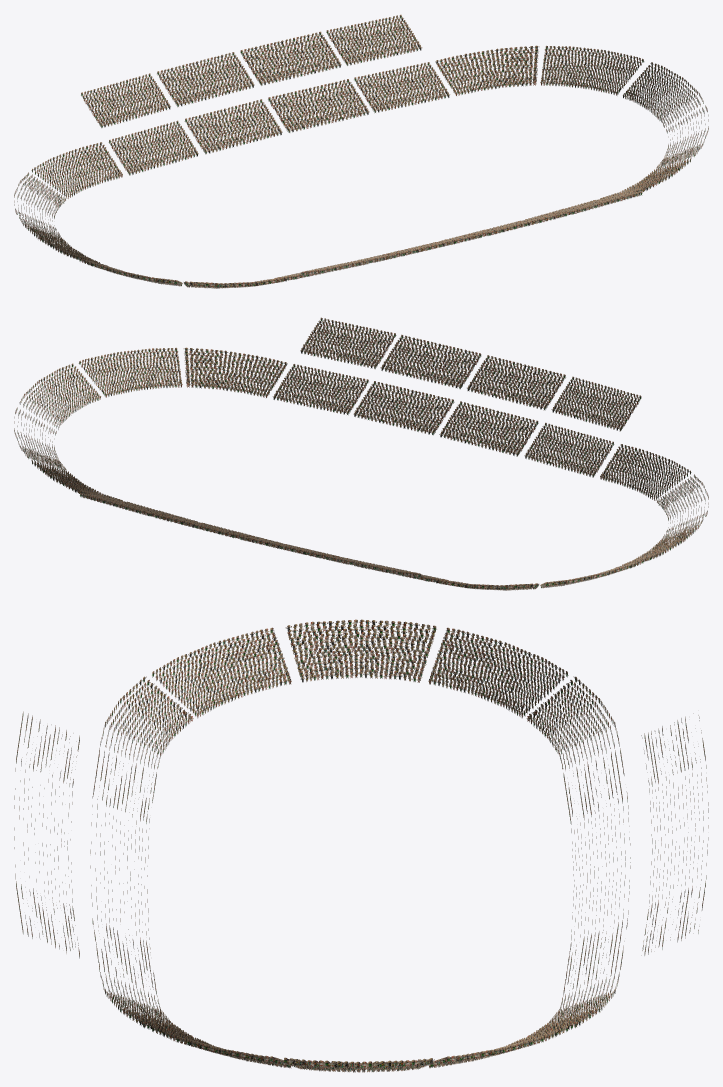
File: Track6_Peoples.fbx
3 views of the same model, one above another, from view 1: azimuth 30°, elevation 25°; view 2: azimuth 150°, elevation 25°; view 3: azimuth 270°, elevation 25° (orthographic). The views are drawn at different scales.
Size of the model in its own units: 27227 by 1954 by 18079.
